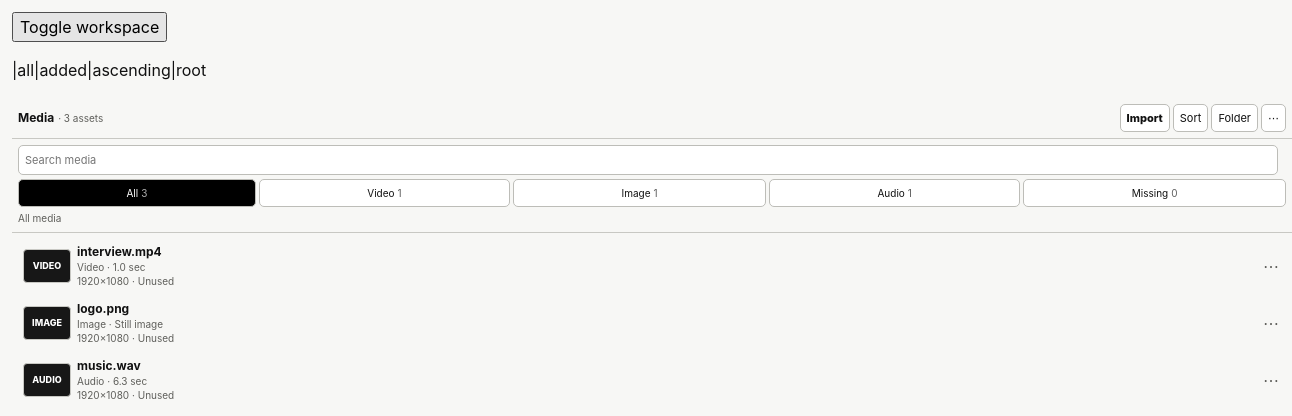
Scenario: Media Library V2 — durable folders › reports a folder problem inside the folder control, never as a panel-wide alarm
Click the button with aria-label "Folder, All media selected" at (1235, 118), box x1=1211 y1=104 x2=1258 y2=132
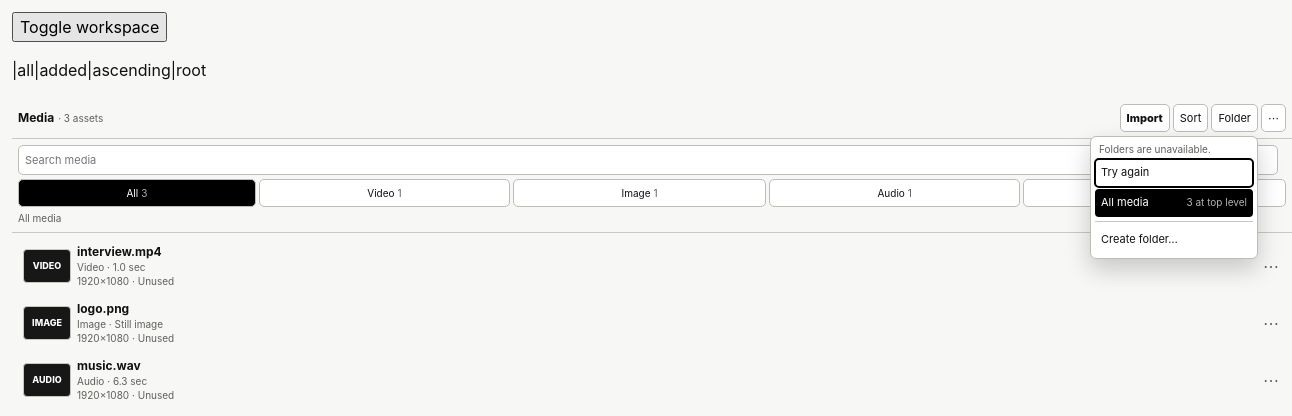
Check: the text "Folders are unavailable." is shown, box x1=1099 y1=143 x2=1211 y2=155
Check: the menu item "Try again" is shown, box x1=1095 y1=158 x2=1253 y2=186
